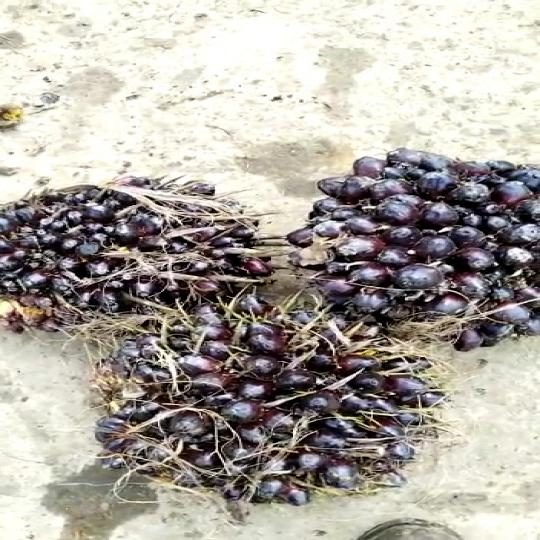mentah: (95, 297, 461, 519), (277, 148, 540, 370), (0, 168, 265, 343)
